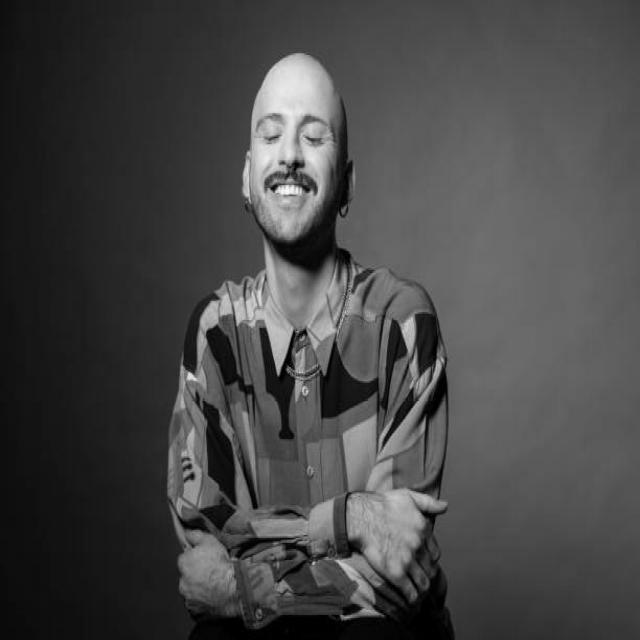real: (249, 93, 345, 230), (253, 107, 334, 167)
